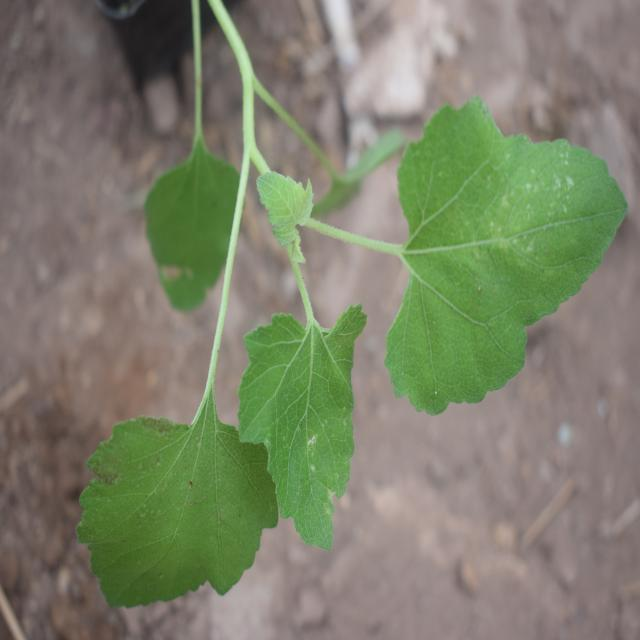cocklebur: (62, 51, 610, 610)
